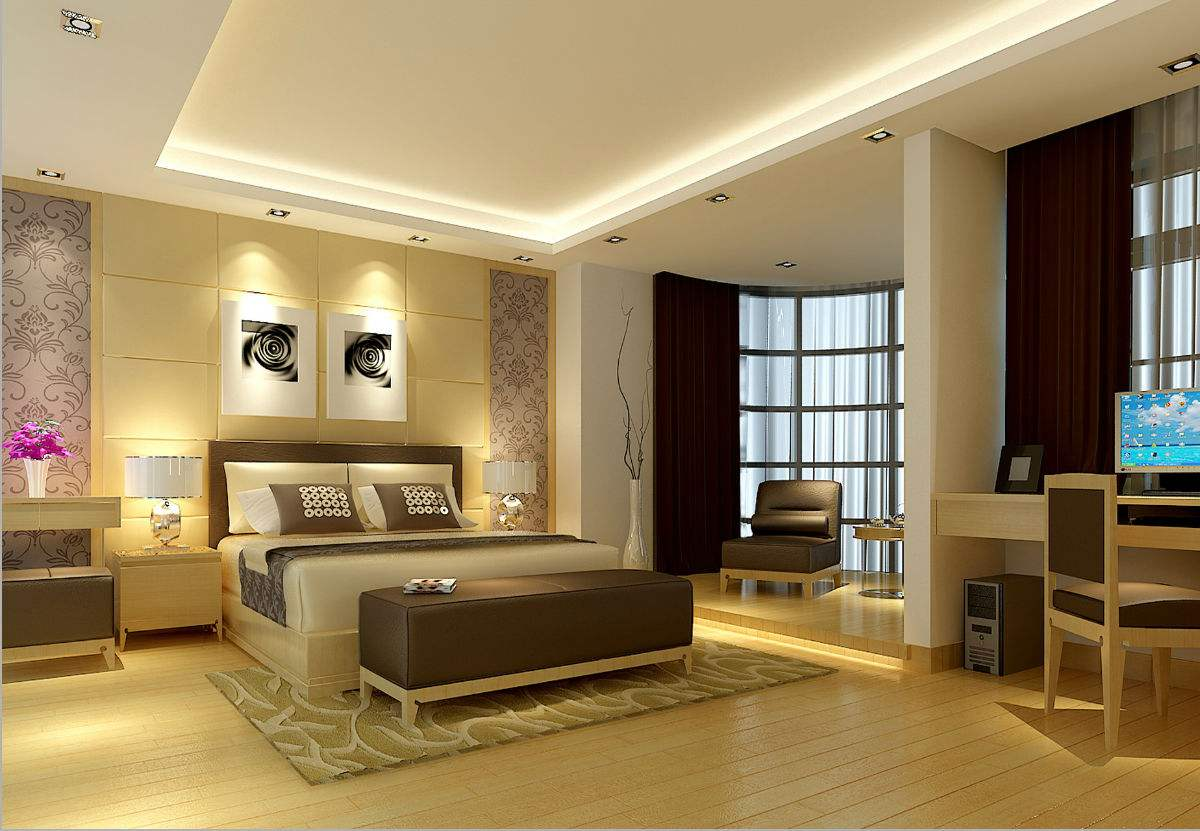床: (200, 516, 663, 712)
枕头: (226, 473, 457, 546)
灯: (111, 445, 200, 555), (475, 459, 537, 534), (55, 11, 98, 39), (1161, 49, 1200, 79), (34, 168, 68, 189), (597, 232, 628, 251), (700, 190, 731, 209), (857, 129, 889, 147), (261, 207, 294, 223), (403, 232, 430, 250), (770, 257, 797, 275)
